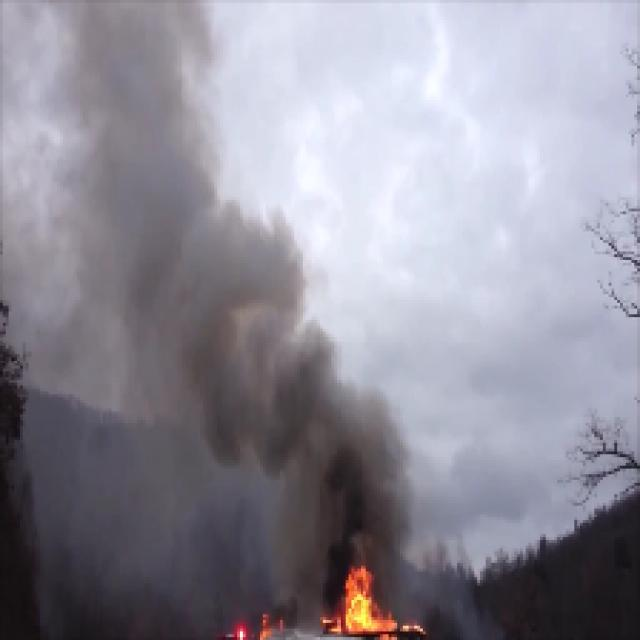fire: (335, 568, 384, 634)
smoke: (176, 230, 291, 454), (291, 394, 396, 556)
